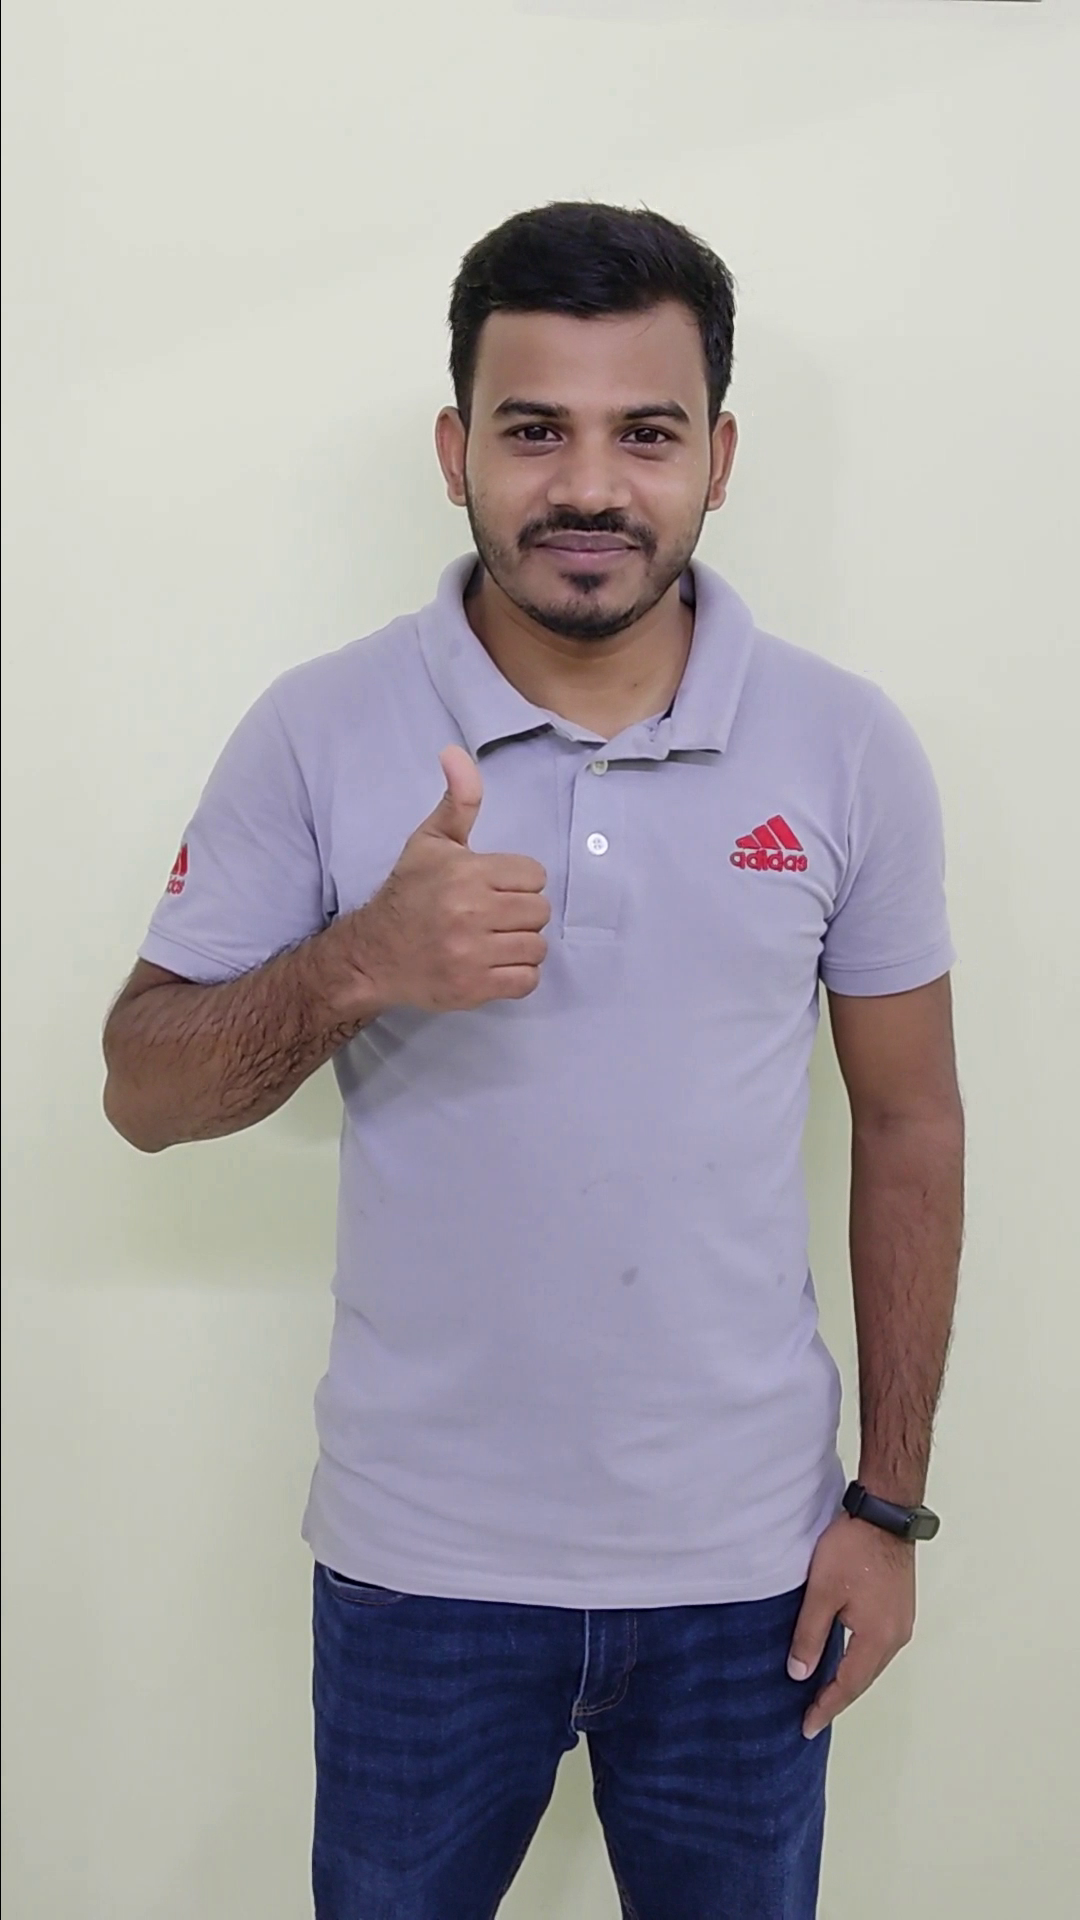Like: (351, 724, 566, 1033)
None: (771, 1457, 952, 1754)
